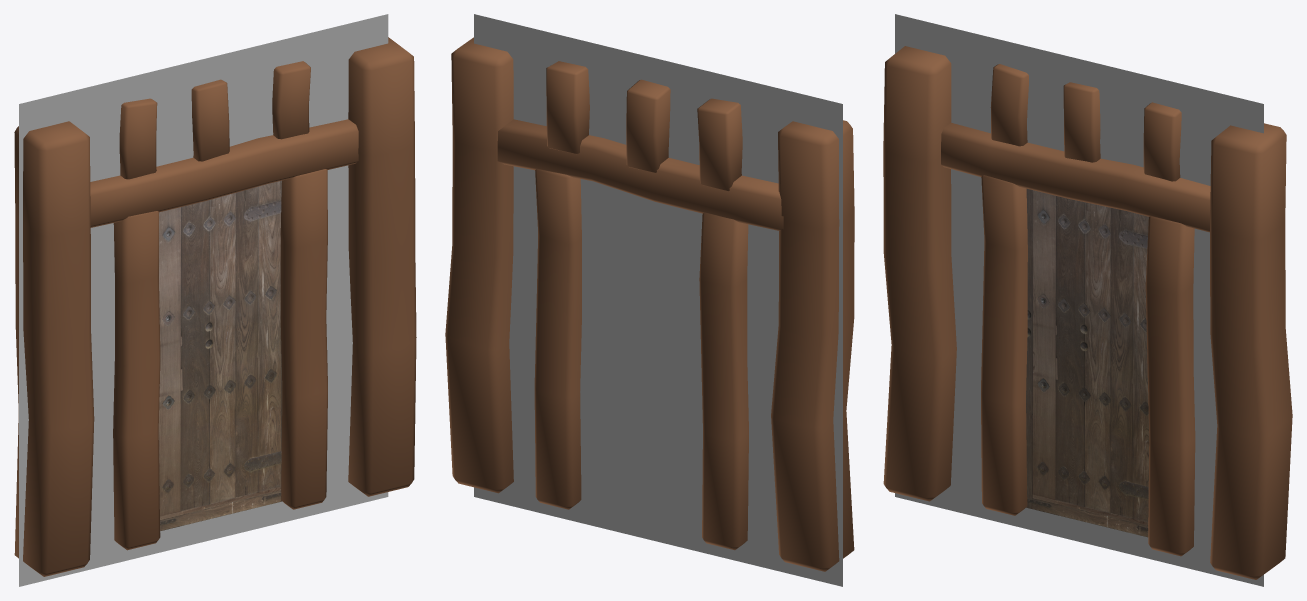
File: door.fbx
3 renders of one model, left to right at view 1: azimuth 30°, elevation 25°; view 2: azimuth 150°, elevation 25°; view 3: azimuth 330°, elevation 25°, orthographic.
Parts seen in each view (by area): view 1: door; view 2: door; view 3: door.
Boxes of the visible parts, x1,y1,x2,y2 form: door: (14, 14, 416, 586); door: (445, 14, 854, 586); door: (883, 14, 1292, 586).
Bounding box in the file's own units: 234 × 279 × 36.04.
